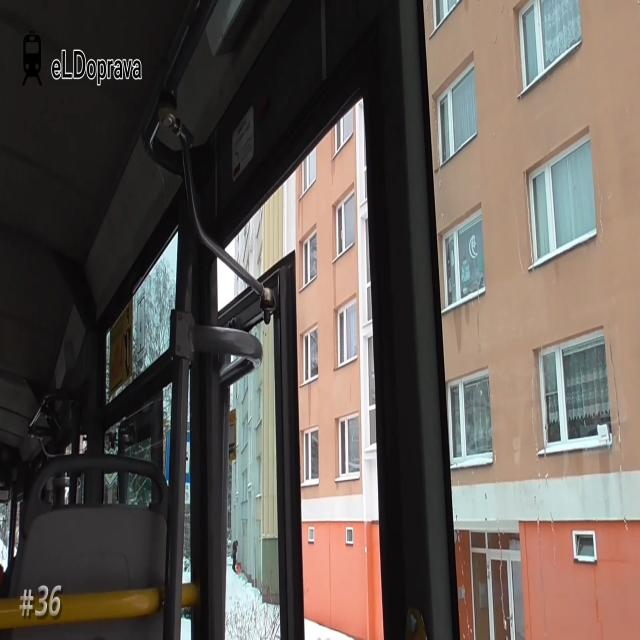bus-door: (183, 84, 378, 640)
